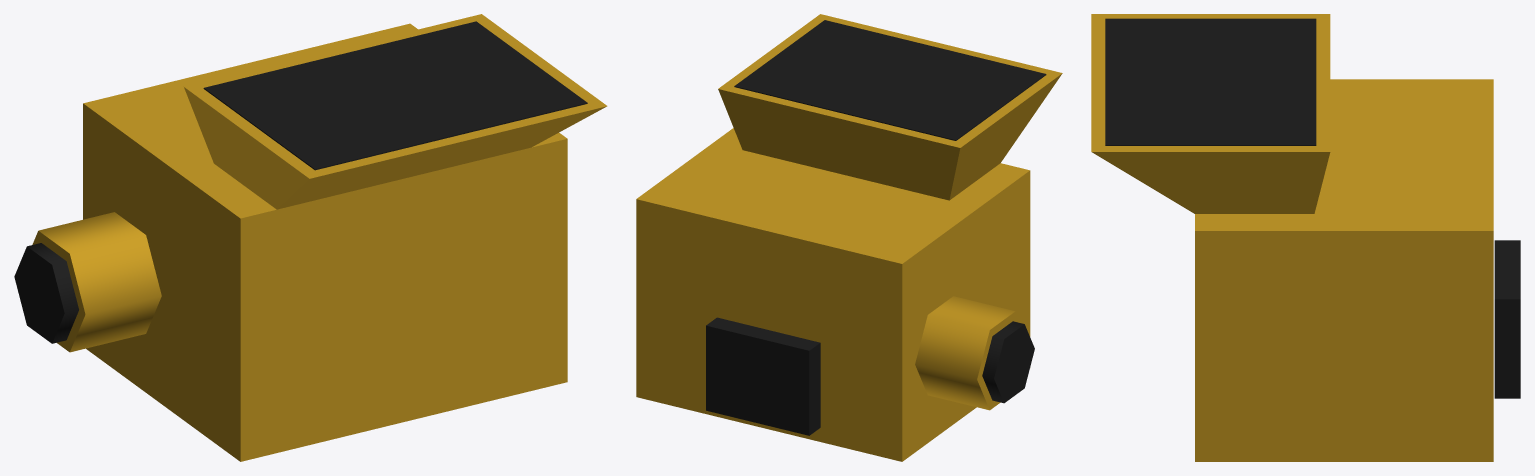
The model's file is mk1_crusher.obj.
3 renders of one model, left to right at view 1: azimuth 30°, elevation 25°; view 2: azimuth 150°, elevation 25°; view 3: azimuth 270°, elevation 25°, orthographic. The views are drawn at different scales.
Parts seen in each view (by area): view 1: mk1_crusher; view 2: mk1_crusher; view 3: mk1_crusher.
Part boxes in pixels (x1=…): mk1_crusher: x1=14, y1=14, x2=607, y2=461; mk1_crusher: x1=636, y1=14, x2=1062, y2=461; mk1_crusher: x1=1091, y1=14, x2=1520, y2=461.
Size of the model in its own units: 2.3 by 1.69 by 2.16.
